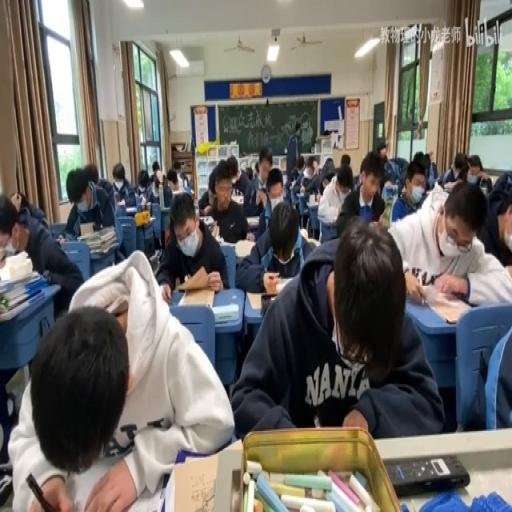calculator: (171, 452, 223, 512), (122, 473, 164, 512), (426, 293, 471, 324), (213, 302, 239, 322), (234, 238, 256, 258), (78, 232, 108, 246), (90, 244, 114, 258), (0, 245, 17, 263), (78, 219, 94, 236), (302, 234, 320, 248), (218, 238, 236, 250), (230, 193, 244, 205), (54, 233, 68, 245), (246, 215, 260, 226), (170, 186, 185, 196), (210, 222, 219, 237), (299, 226, 309, 239), (202, 214, 214, 224), (125, 205, 137, 215), (116, 196, 126, 208), (306, 198, 320, 206), (298, 189, 304, 196)
paper: (230, 218, 438, 440), (0, 183, 82, 457), (386, 179, 510, 307), (155, 191, 228, 300), (462, 312, 510, 430), (63, 164, 115, 244), (334, 154, 386, 232), (248, 150, 281, 228), (5, 189, 47, 235), (300, 156, 334, 205), (225, 154, 252, 204), (436, 149, 470, 188), (197, 170, 220, 214), (110, 161, 132, 206), (374, 141, 395, 186), (168, 162, 191, 192), (491, 170, 512, 200), (136, 168, 152, 205), (429, 180, 448, 208), (290, 120, 302, 154), (283, 175, 298, 200), (84, 162, 98, 186), (466, 154, 482, 172), (478, 174, 492, 192), (421, 152, 430, 174), (293, 155, 303, 174), (430, 161, 438, 182), (321, 175, 330, 192), (306, 161, 315, 176), (245, 165, 253, 181), (340, 154, 350, 165), (152, 162, 160, 175), (302, 175, 310, 188), (253, 161, 259, 176), (150, 174, 158, 184)
person: (384, 452, 470, 496), (230, 468, 242, 510), (261, 292, 277, 314)
